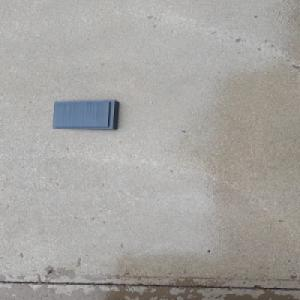PlasticPart: (50, 99, 120, 130)
